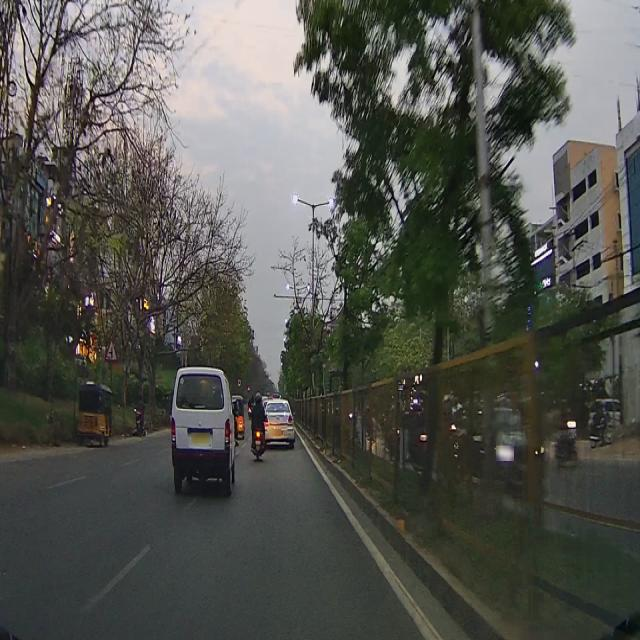side-road-left: (105, 339, 118, 359)
